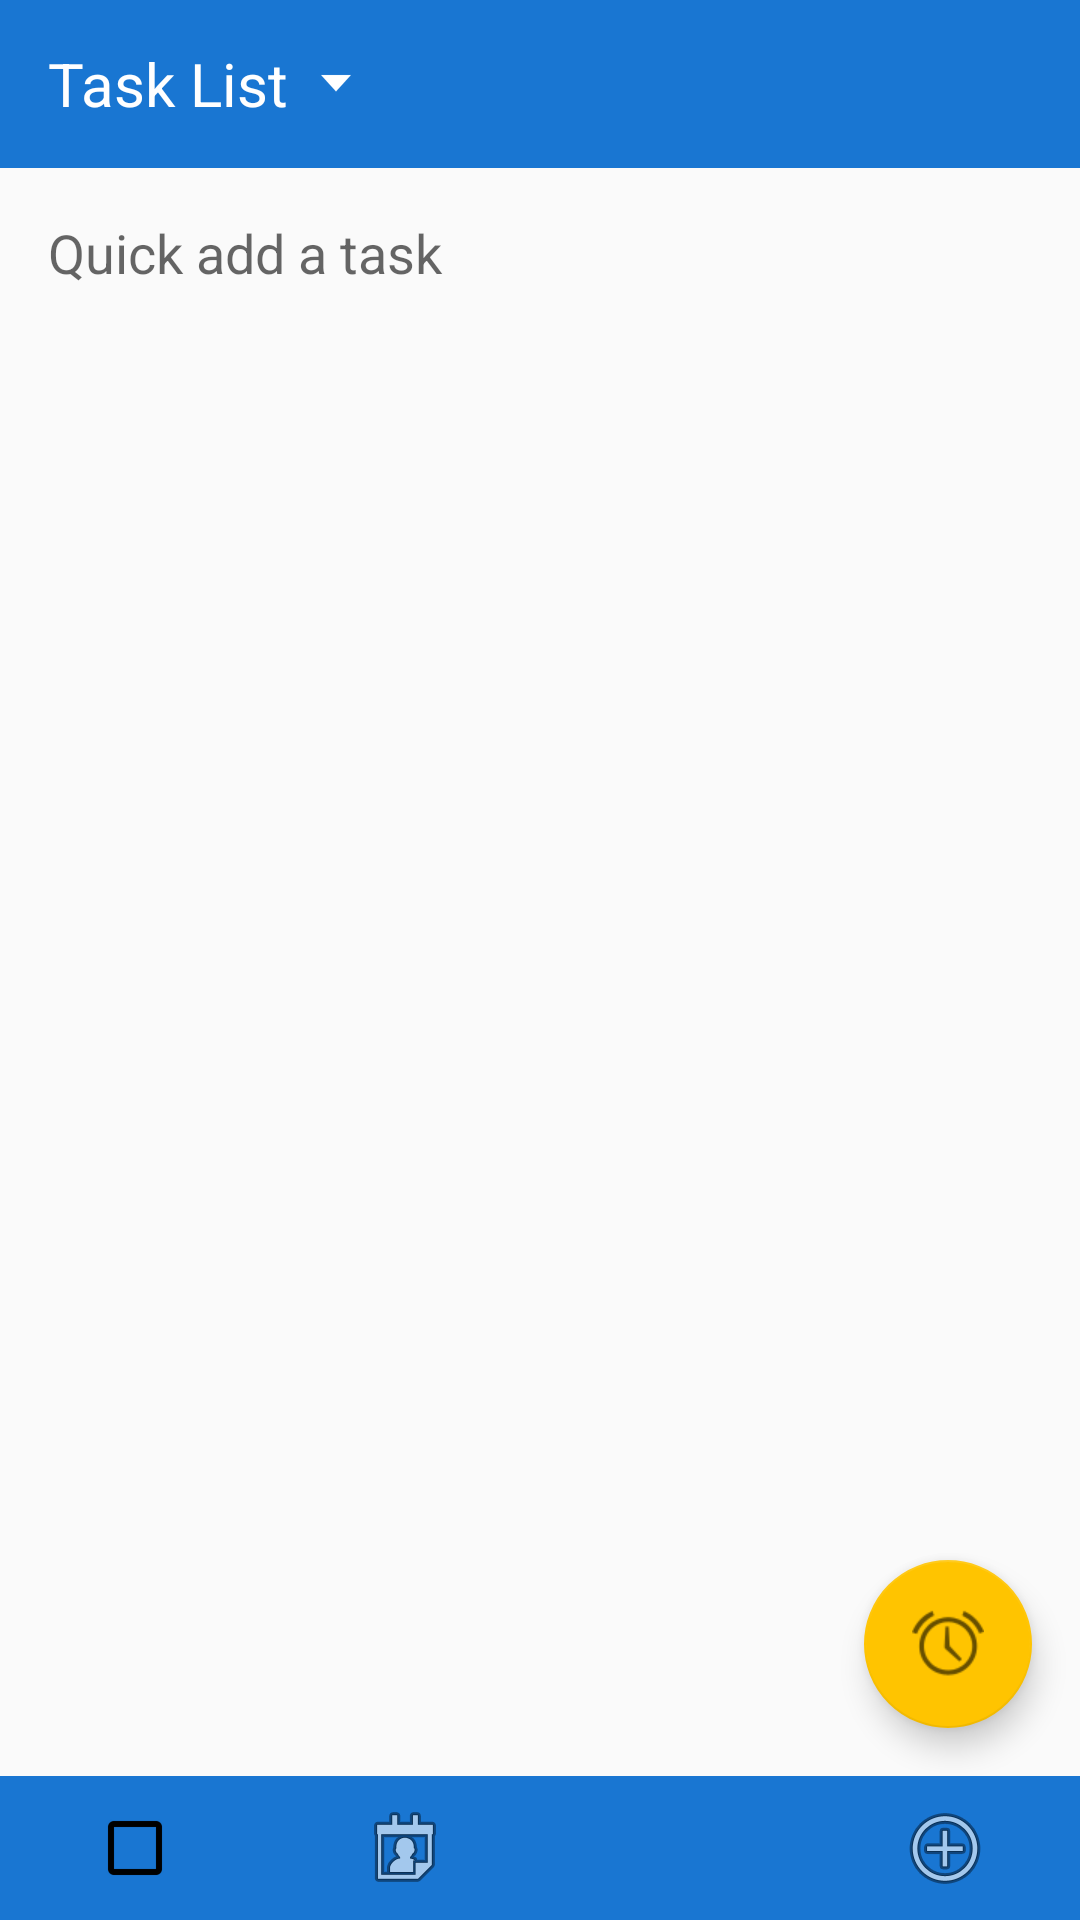

Icon bounding boxes for this 1080px x 1920px phone screenshot, format (x1,y1,x2,y2):
bar checkbox: (108,1821,162,1875)
calendar: (374,1812,436,1882)
lock idle alarm: (864,1560,1032,1728)
